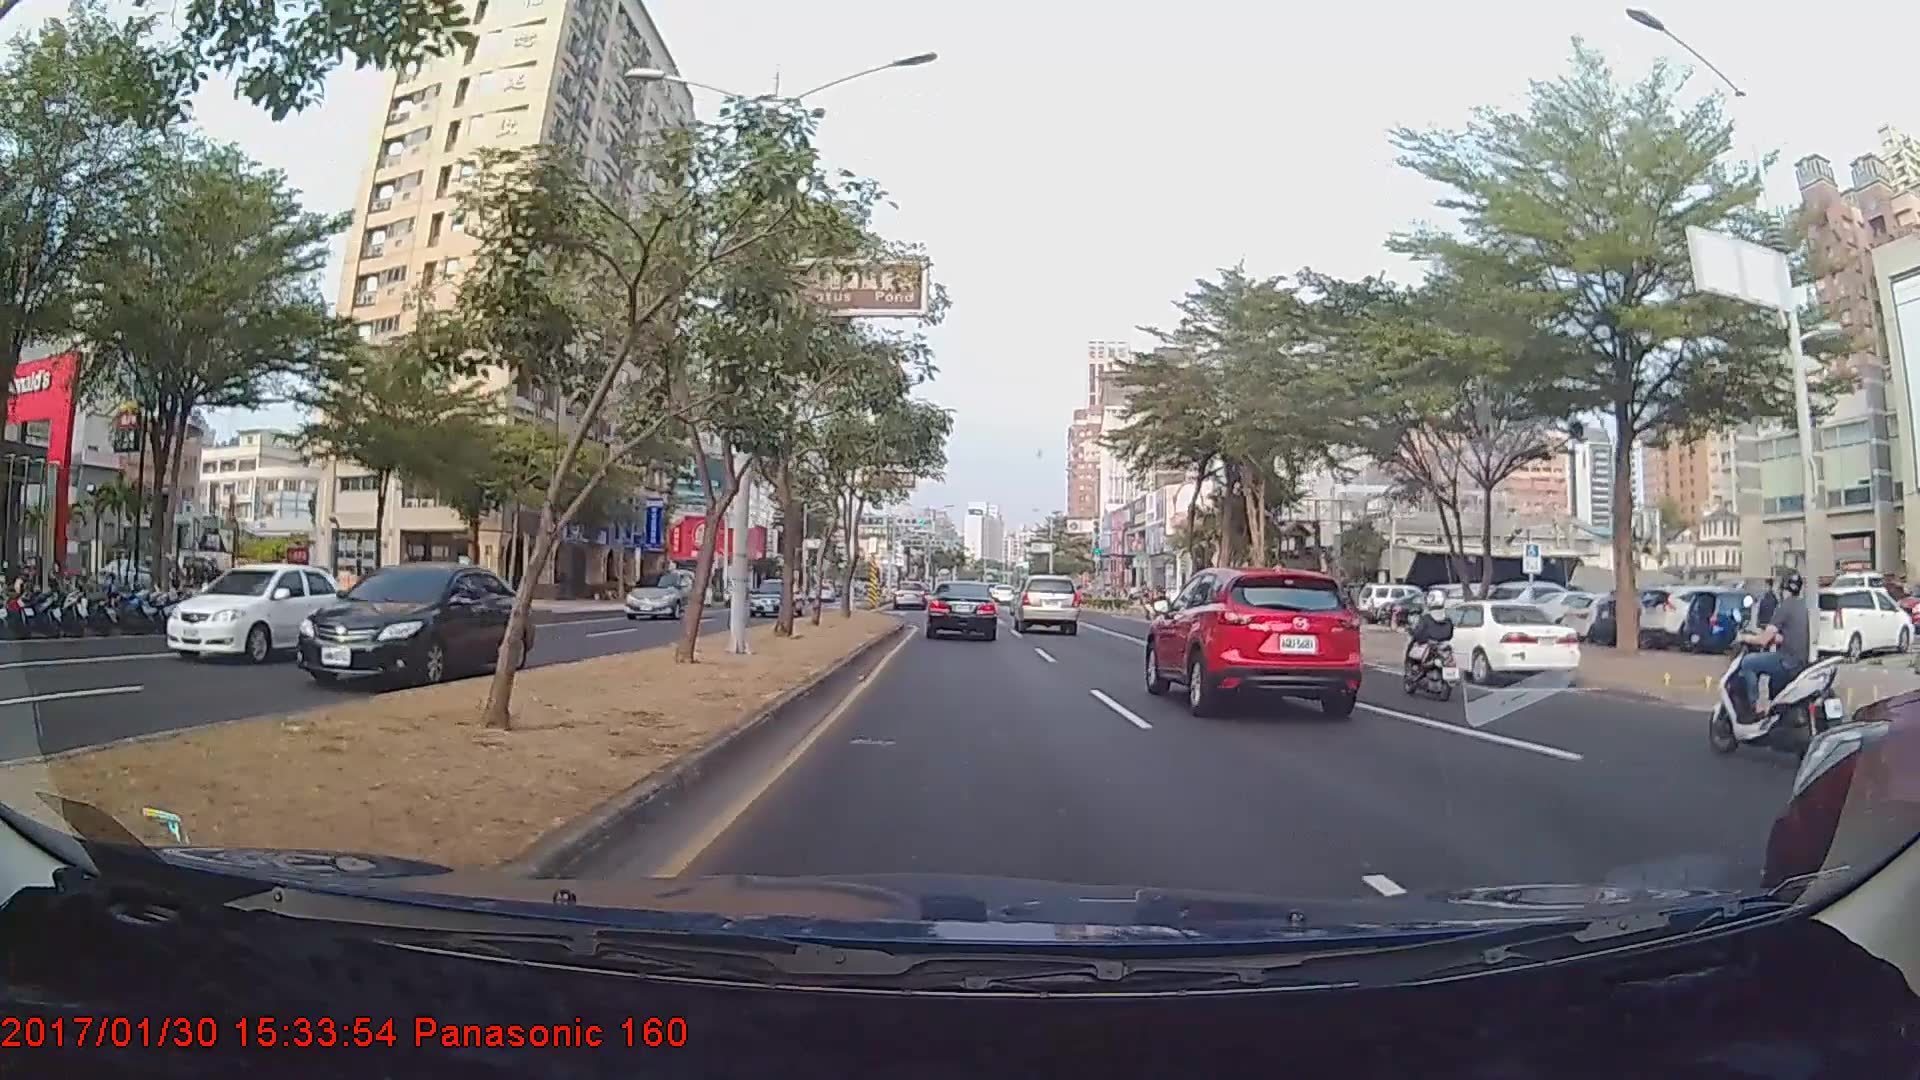pedestrian: (1754, 577, 1784, 664)
rider: (1709, 555, 1836, 762), (1390, 586, 1467, 703)
vehicle: (1142, 556, 1365, 716), (290, 560, 533, 687), (165, 562, 358, 663), (1404, 597, 1581, 685), (1792, 584, 1908, 663), (925, 579, 999, 642), (621, 565, 701, 618), (1012, 573, 1080, 634), (747, 579, 801, 621), (892, 580, 928, 611)
